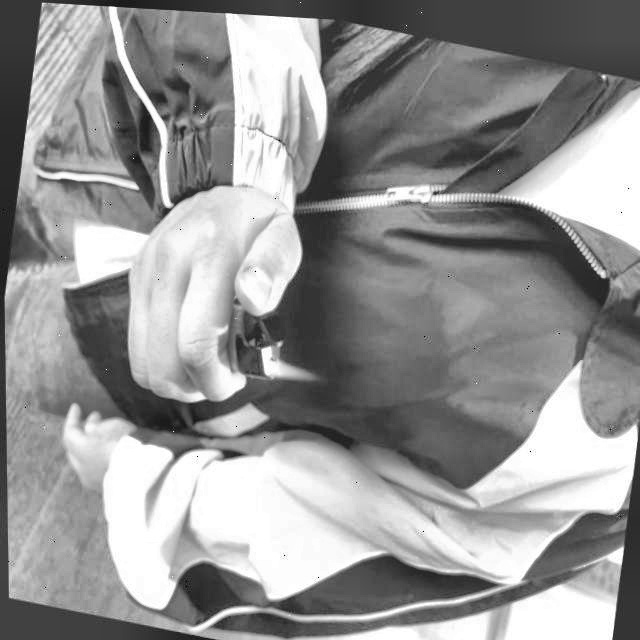Fire: (262, 356, 318, 382)
